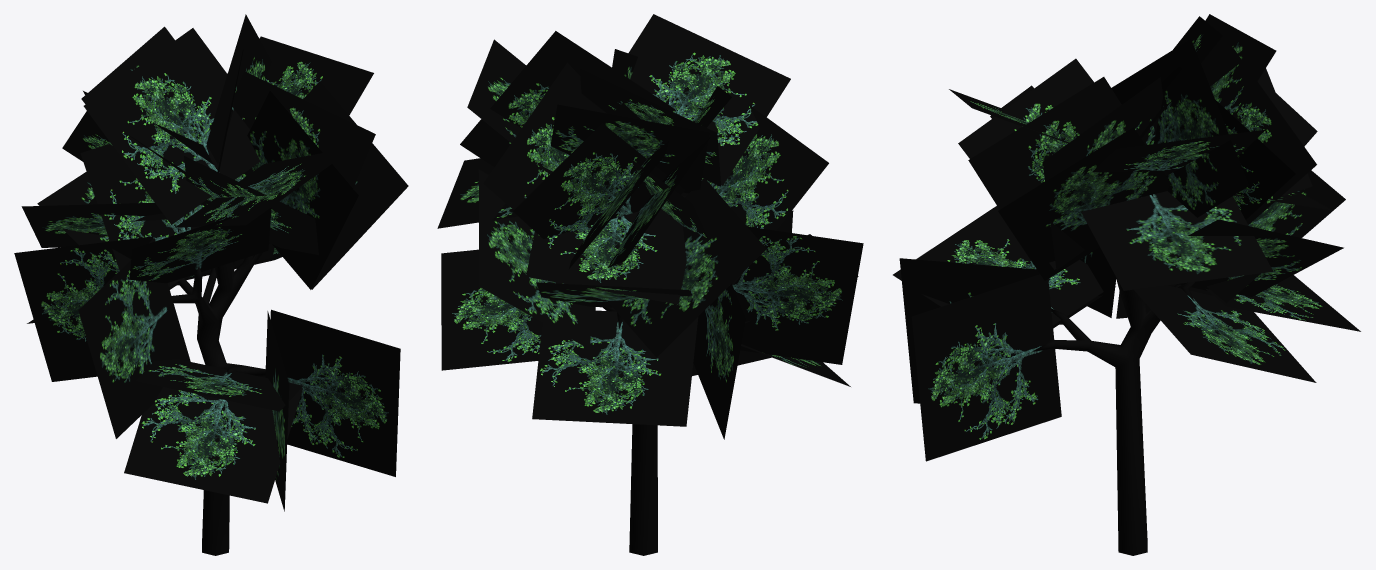
File: tree68.glb
3 views of the same model, side by side, from view 1: azimuth 30°, elevation 25°; view 2: azimuth 150°, elevation 25°; view 3: azimuth 270°, elevation 25° (orthographic). The views are drawn at different scales.
Bounding box in the file's own units: 4.9 × 6.71 × 5.28.
2 materials, 1 textured.
